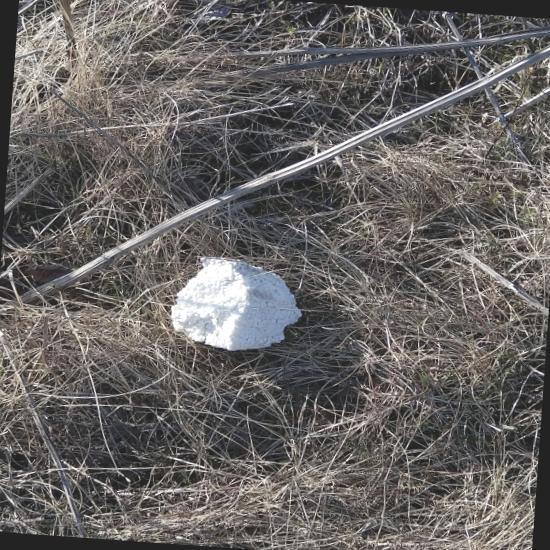Normal paper: (81, 191, 151, 235)
Other plastic: (65, 173, 93, 190), (410, 284, 439, 299), (412, 192, 438, 205), (453, 230, 475, 239), (517, 231, 527, 239), (467, 241, 479, 247)
Other plastic cup: (309, 205, 338, 219)
Plastic film: (196, 308, 321, 392), (177, 223, 304, 281), (282, 248, 353, 302), (139, 230, 206, 259), (466, 404, 526, 432), (284, 217, 315, 248), (54, 230, 87, 259), (295, 235, 321, 253), (139, 263, 172, 277), (247, 226, 274, 242), (27, 43, 63, 53), (273, 237, 293, 244)
Plastic lid: (420, 84, 429, 92)
Plastic straw: (414, 79, 423, 89)
Styrofoam piece: (405, 379, 440, 398), (471, 194, 498, 213), (499, 171, 526, 185), (512, 219, 530, 236), (251, 203, 269, 218)
Unlabeled litter: (531, 66, 550, 84), (144, 205, 170, 216), (146, 308, 164, 319), (256, 200, 271, 212), (251, 164, 265, 175), (487, 389, 500, 397)
